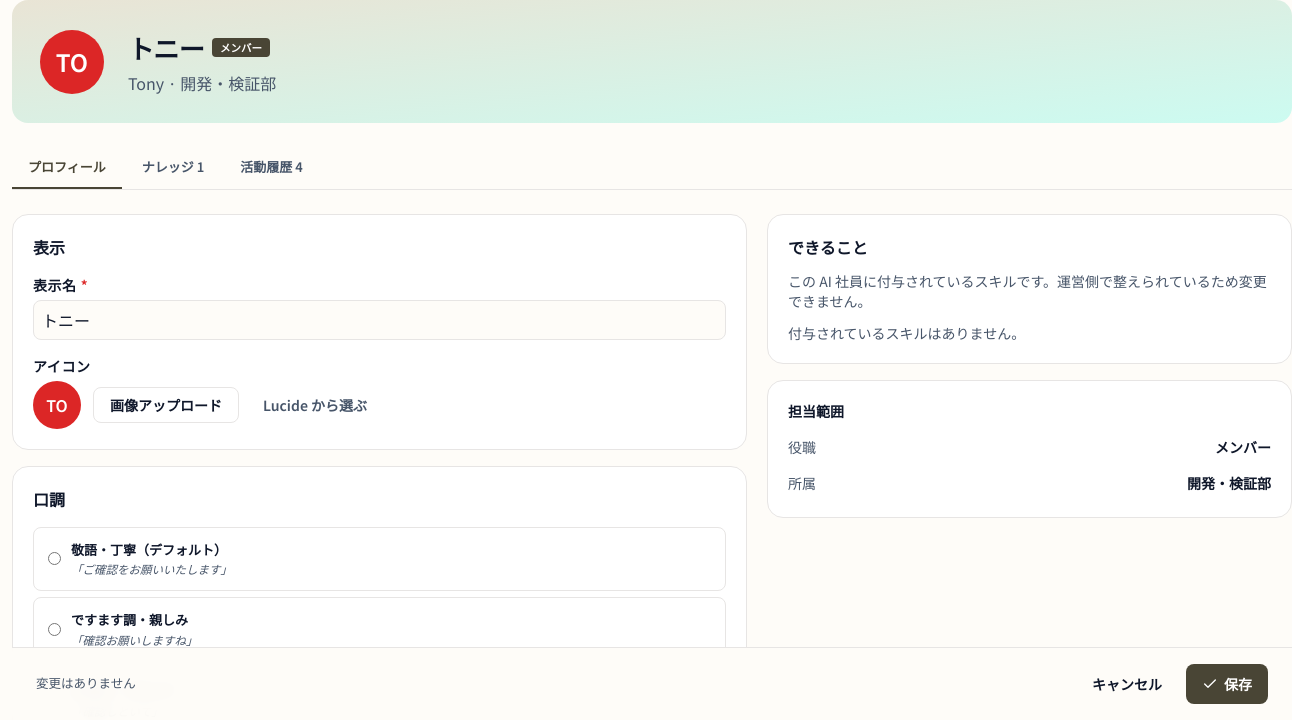
Test: S-C02 活動履歴タブ (GAP-008) › 活動フィードを実 API から取得してタブ描画 (種別バッジ + 件数)
Click the tab "活動履歴 4" at x=272, y=168, box [224,147,319,188]
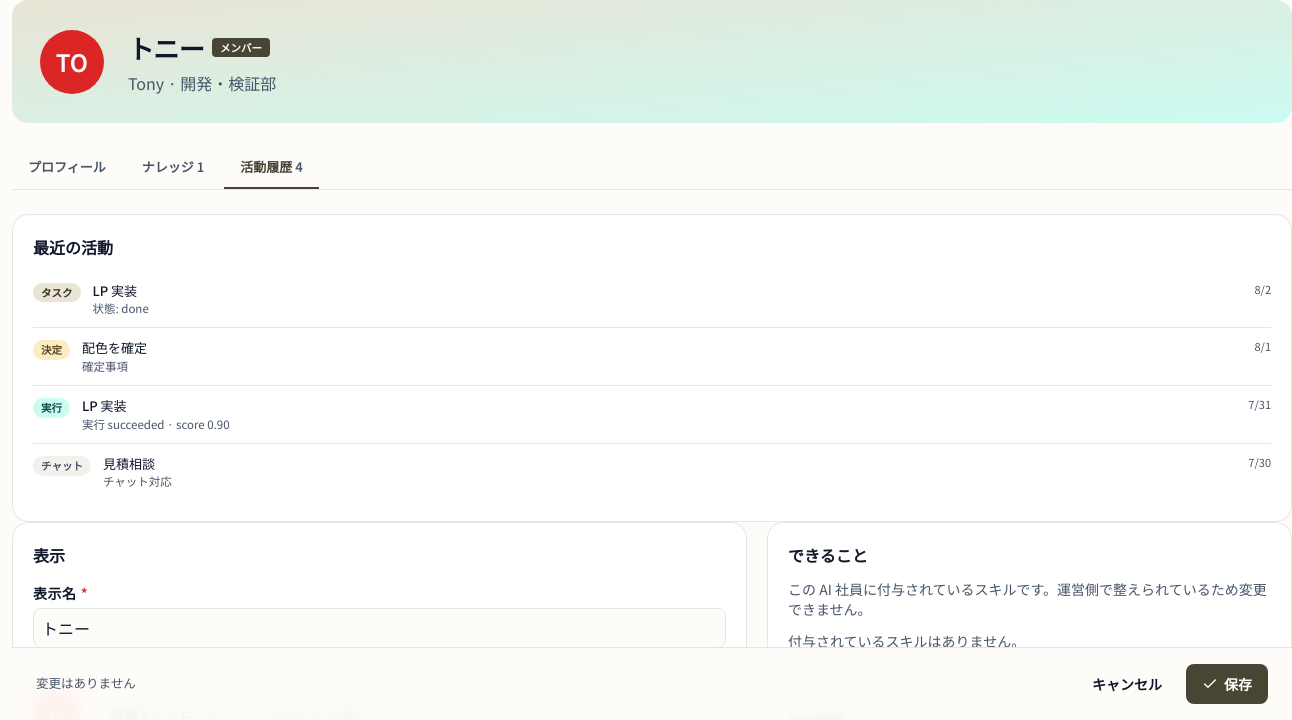
Now the heading "最近の活動" is shown, box [33,234,113,258]
Now the text "配色を確定" is shown, box [82,338,147,357]
Now the text "実行 succeeded · score 0.90" is shown, box [82,416,230,432]
